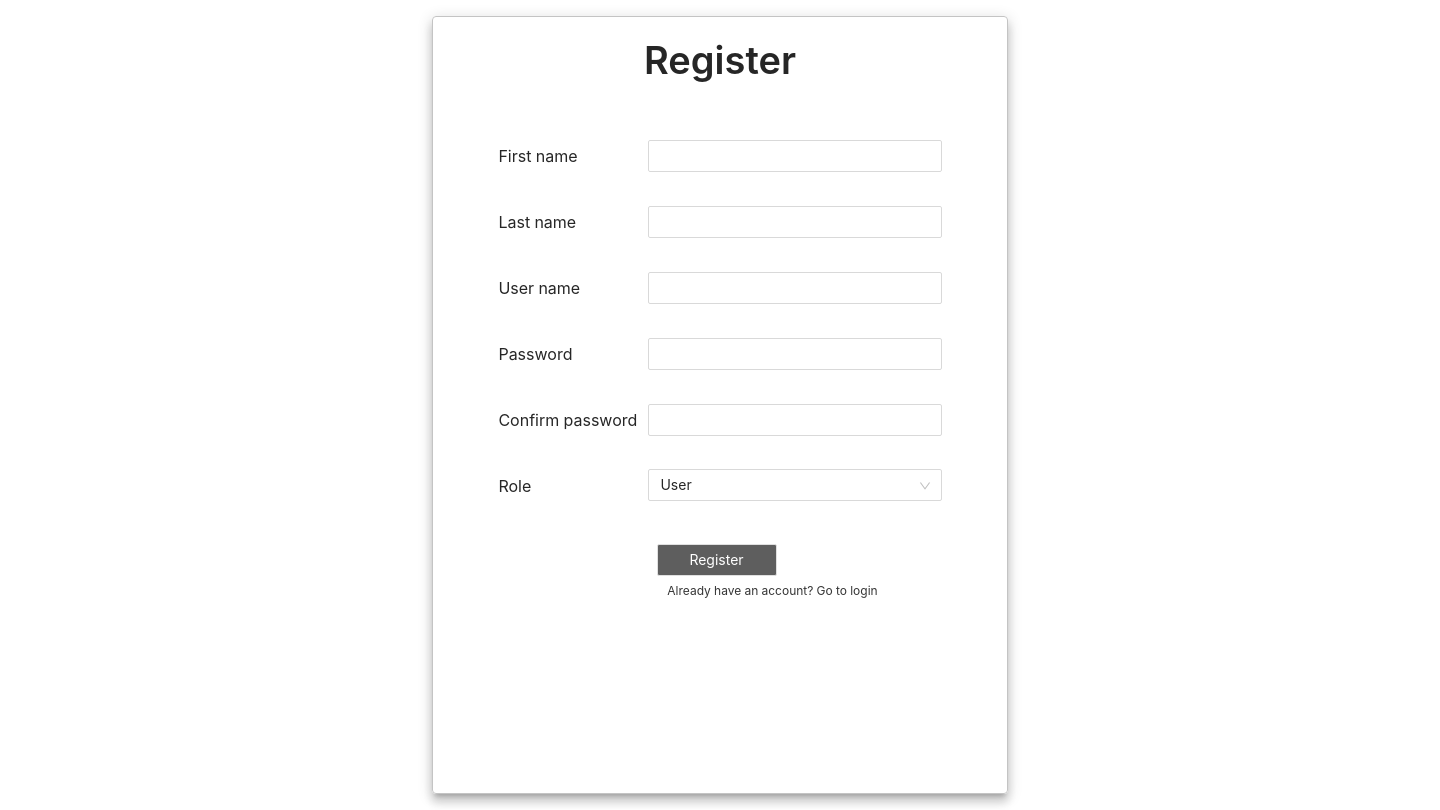
render of alert › when password and confirm password is not same › alert should render
Type "Ankit" into the field with test id "first-name".
click(795, 156); type("Ankit")  # box [648,140,942,172]
Type "Kumar" into the field with test id "last-name".
click(795, 222); type("Kumar")  # box [648,206,942,238]
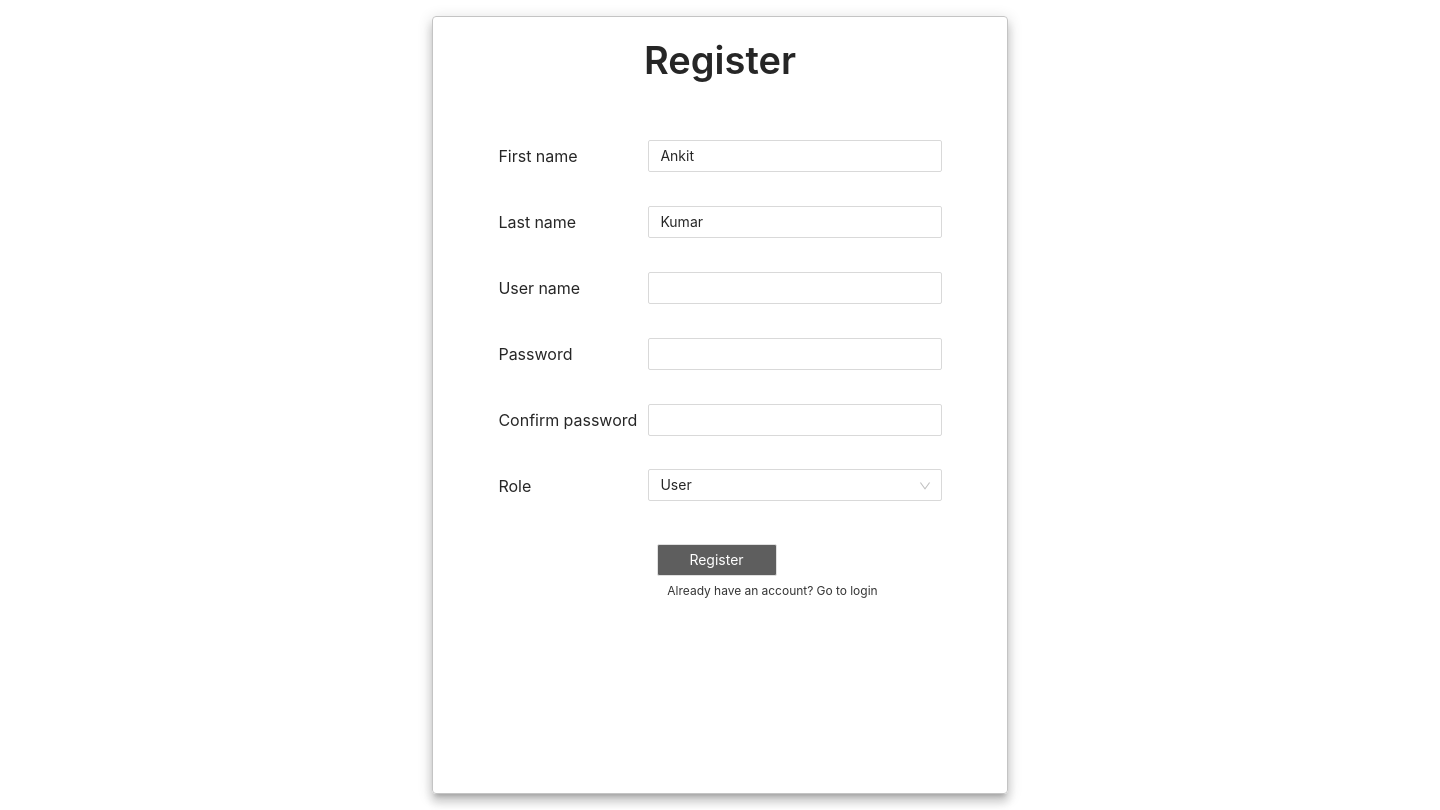
Type "ankit" into the field with test id "user-name".
click(795, 288); type("ankit")  # box [648,272,942,304]
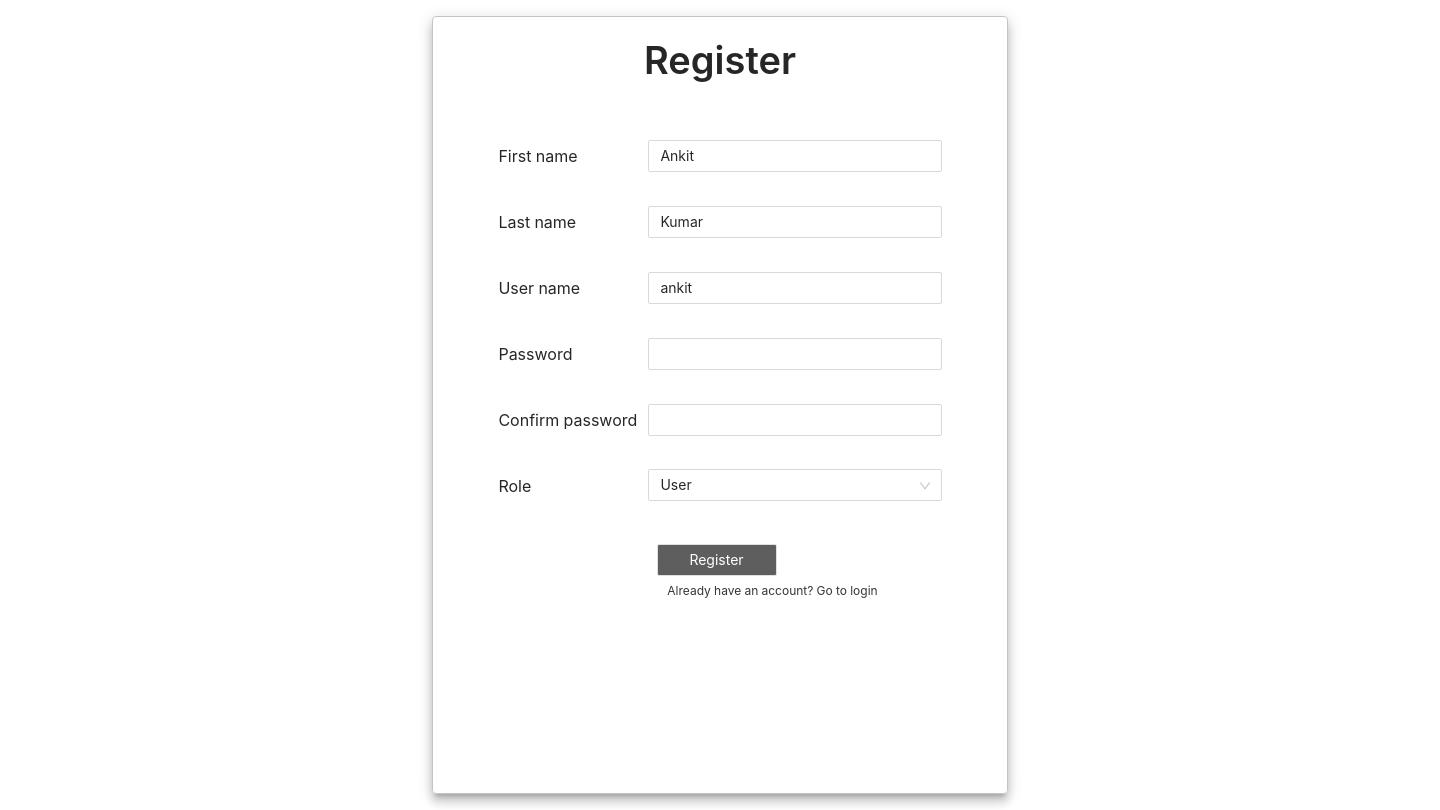
Type "welcome@123" into the password field with test id "password".
click(795, 354); type("welcome@123")  # box [648,338,942,370]
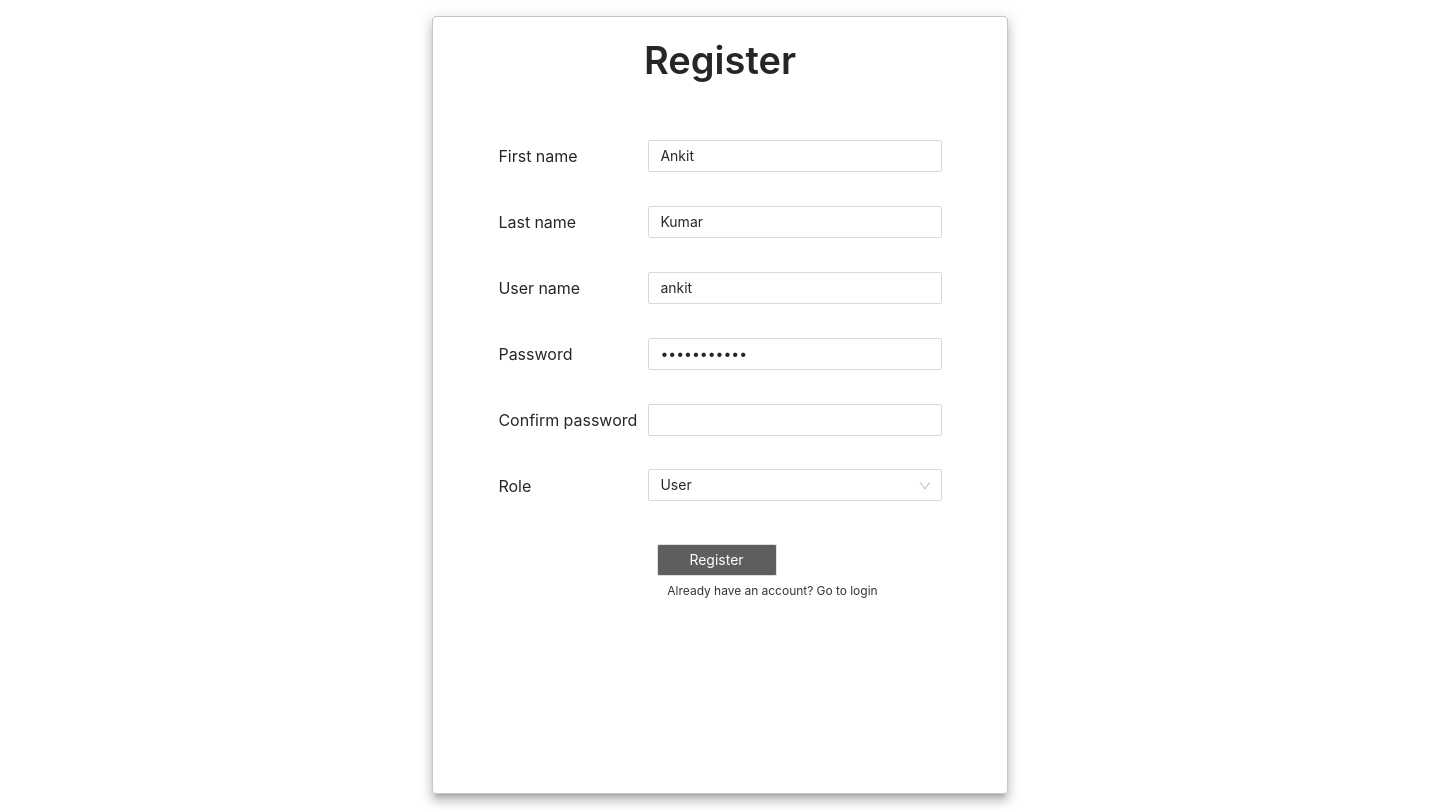
Type "welcome@123!" into the password field with test id "confirm-password".
click(795, 420); type("welcome@123!")  # box [648,404,942,436]
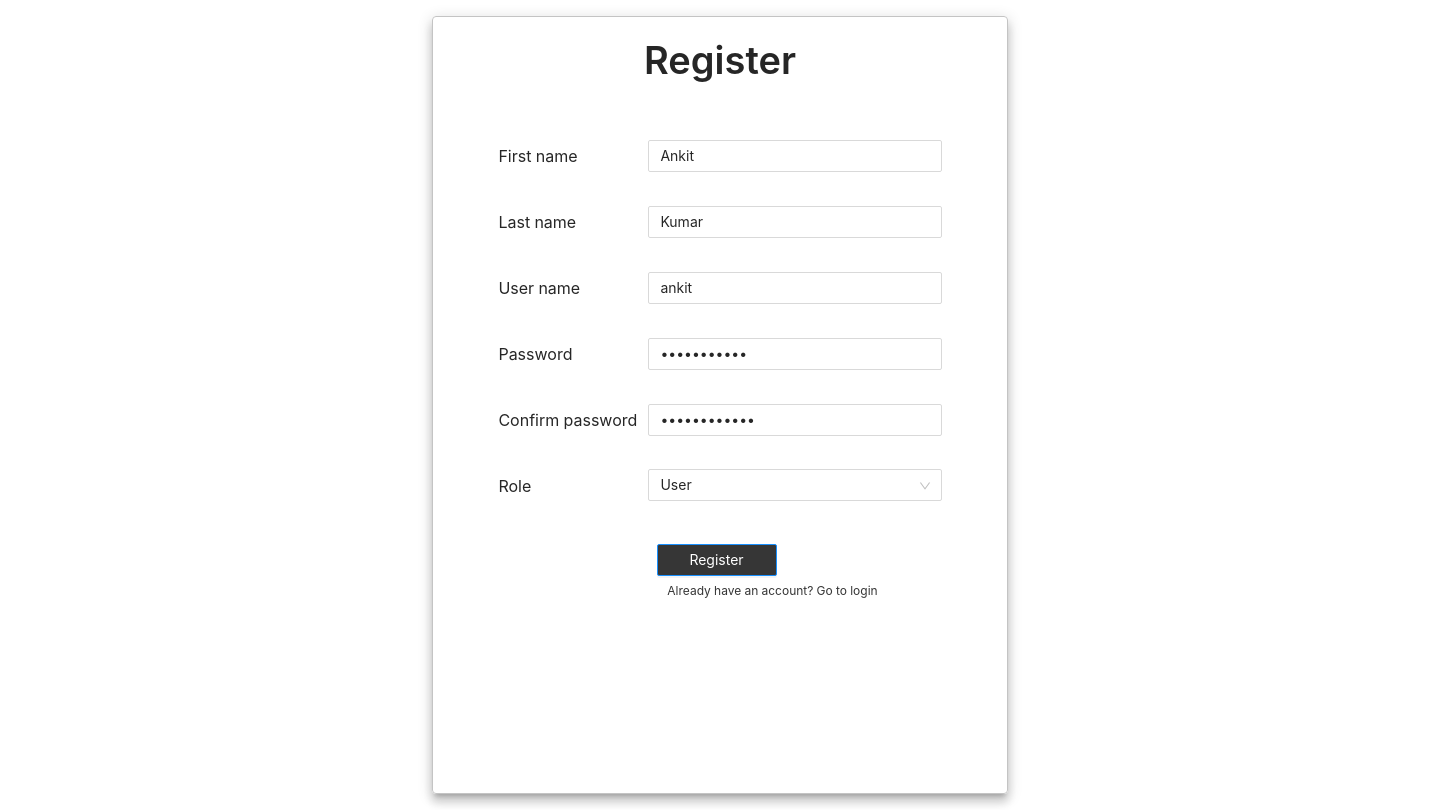
Replace the text in the dropdown labelled "User" with "user" at (795, 485), box [648,469,942,501]
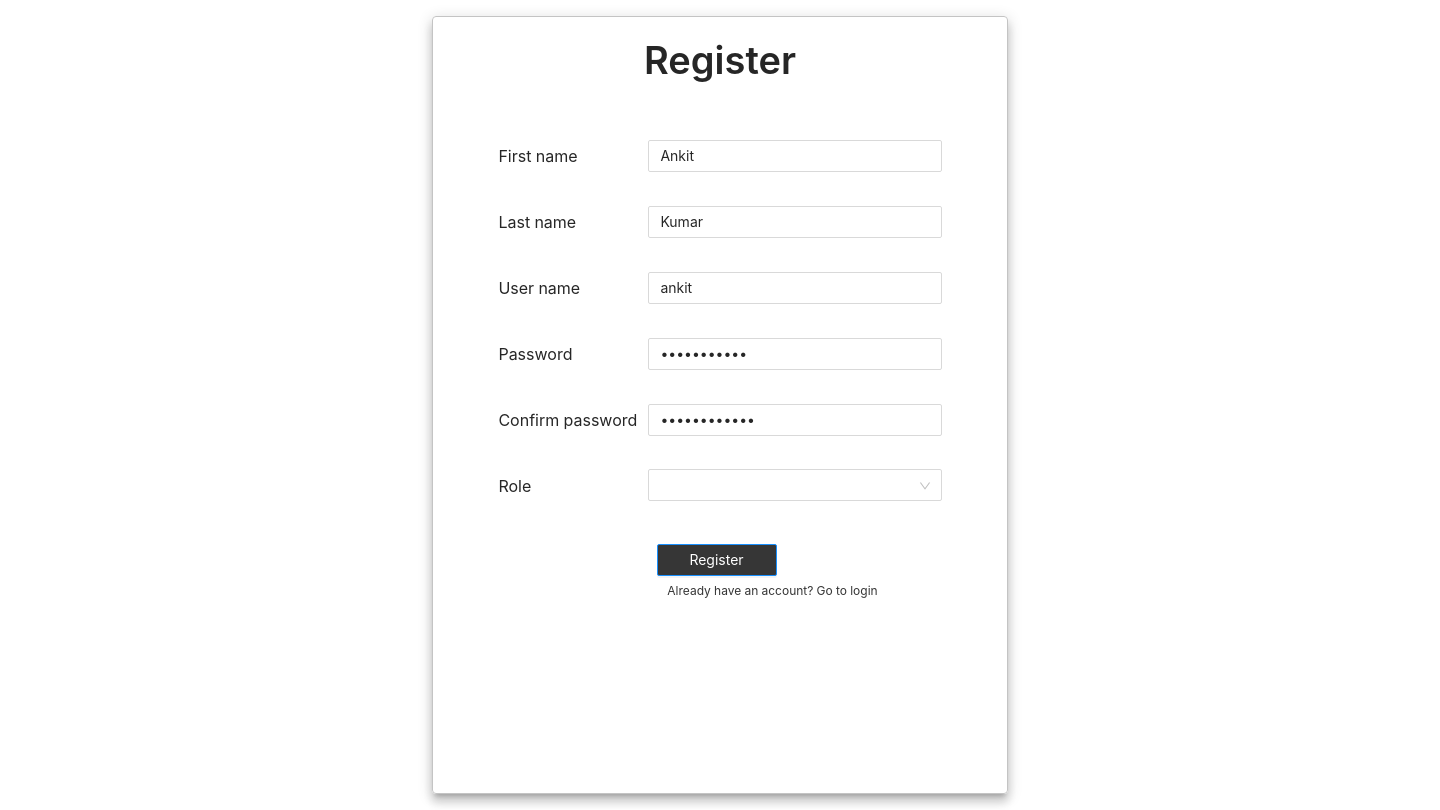
Click the button with test id "register-button".
click(716, 560)  # box [656,544,776,576]
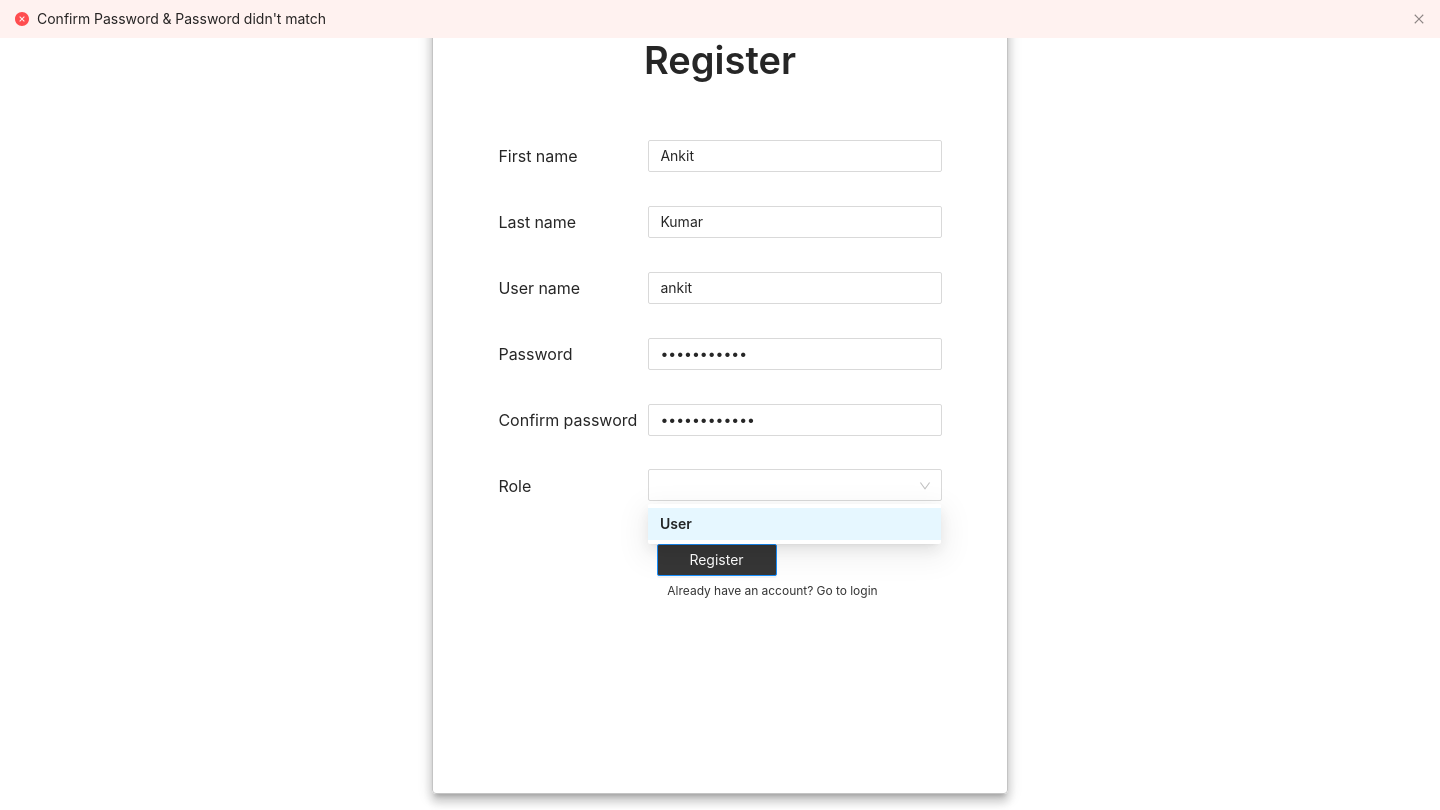
Now the message "Confirm Password & Password didn't match" is shown, box [0,0,1439,38]
